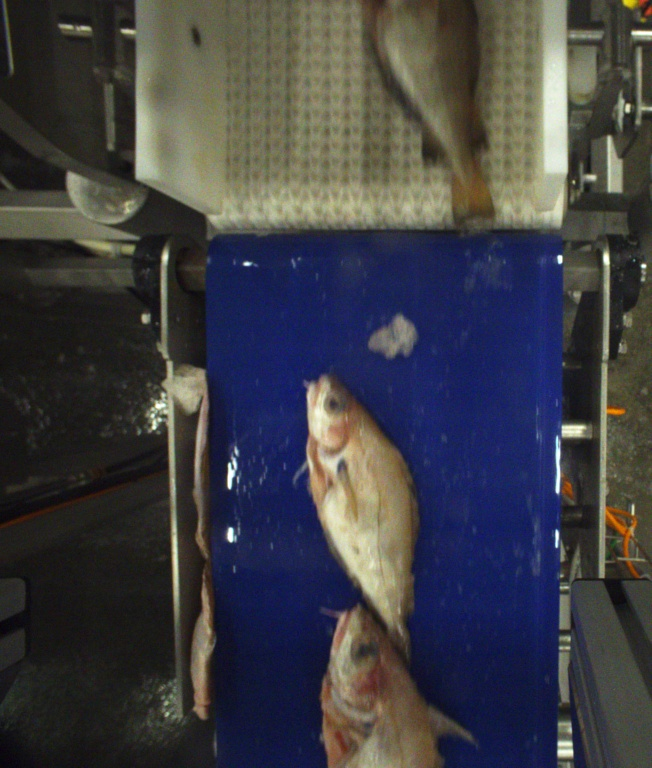BIB: (365, 0, 502, 236)
